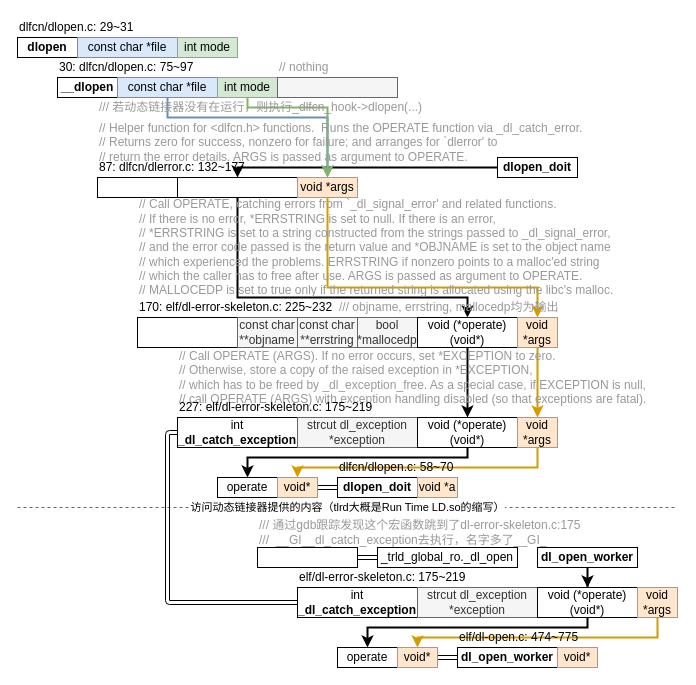
The diagram is 696 pixels wide and 685 high, and some of its shapes have lost their labels. The shapes that lost their labels are listed below. From the top down, each one's box as (x1, y1, x2, y2) in pixels, then its label:
(276, 76, 398, 98): DL_CALLER_DECL
(96, 176, 178, 198): _dlerror_run
(176, 176, 298, 198): void (*operate) (void*)
(136, 316, 238, 348): int _dl_catch_error
(256, 546, 358, 568): GLRO (dl_open)
